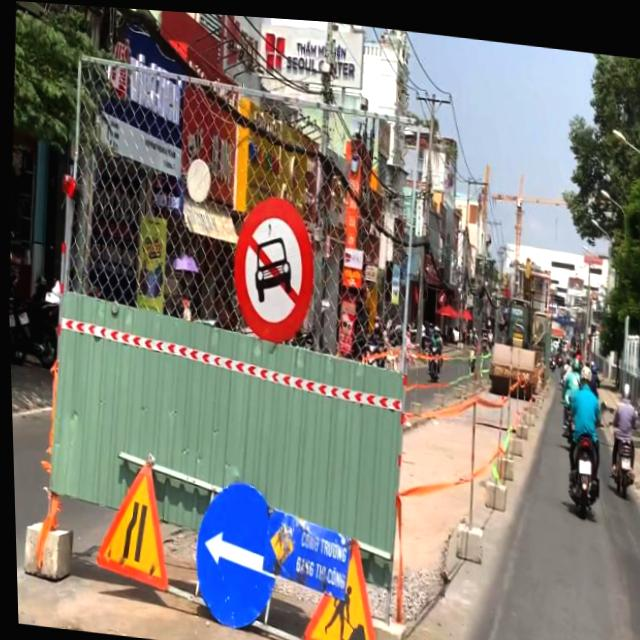Cac xe chi duoc re trai: (186, 474, 280, 633)
Cam xe oto: (226, 188, 318, 346)
